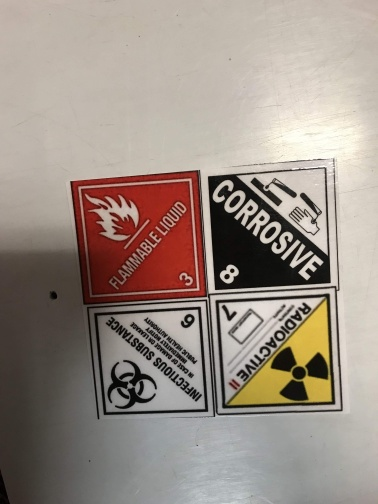Corrosive: (201, 158, 342, 293)
FlammableLiquid: (71, 171, 210, 304)
InfectiousSubstance: (88, 299, 213, 420)
Radioactive: (210, 287, 344, 414)
